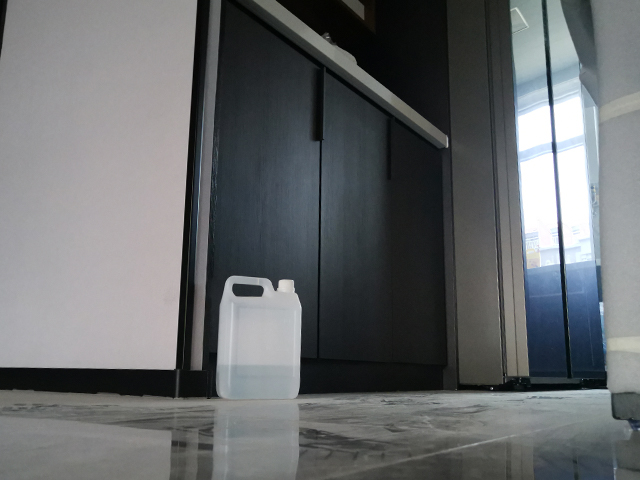cabinet: (173, 1, 461, 402)
